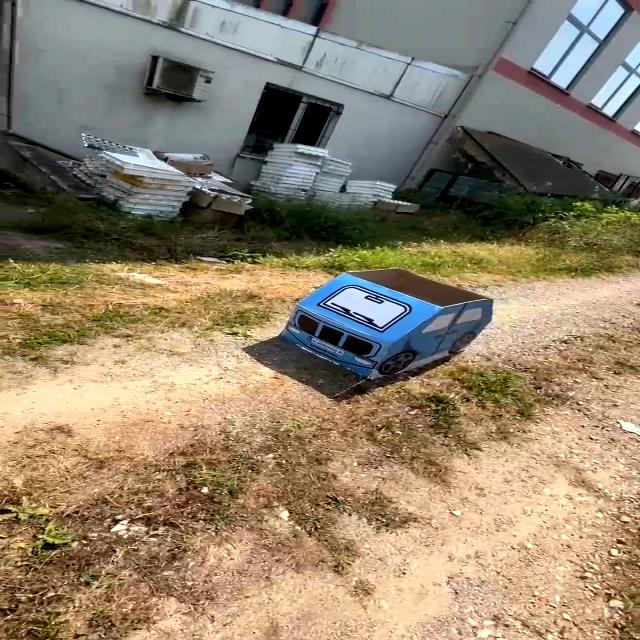blue_car: (256, 247, 501, 394)
